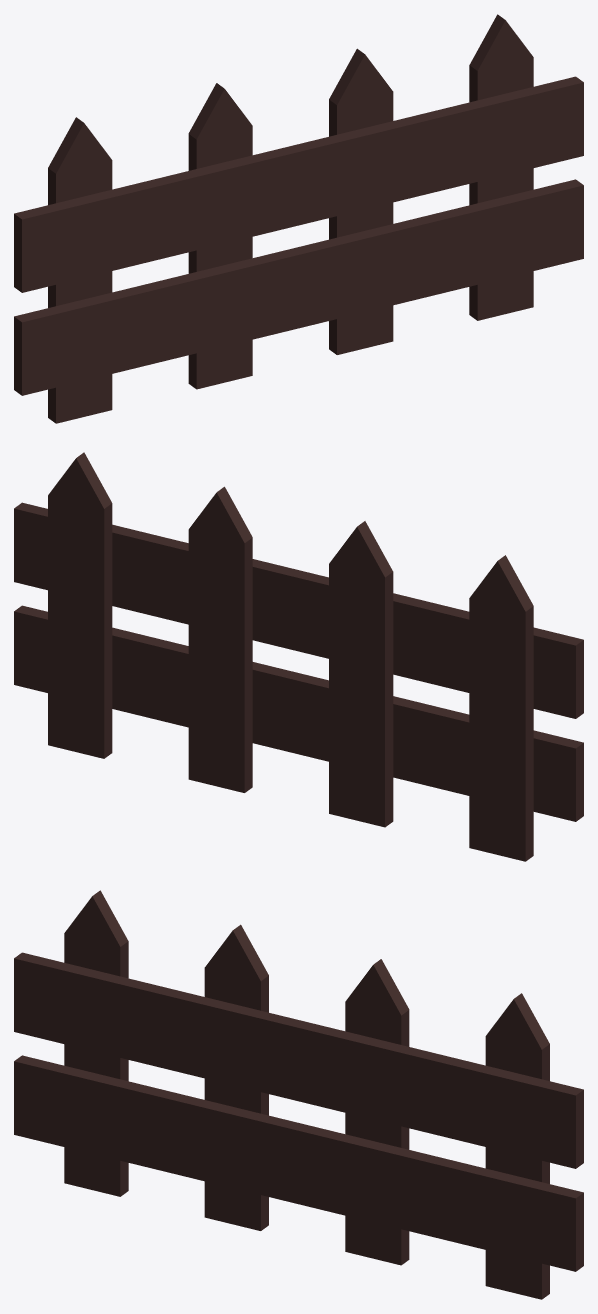
The model's file is fence.fbx.
3 renders of one model, top to bottom at view 1: azimuth 30°, elevation 25°; view 2: azimuth 150°, elevation 25°; view 3: azimuth 330°, elevation 25°, orthographic.
Visible parts, largest first — view 1: Fence; view 2: Fence; view 3: Fence.
Part boxes in pixels (x1,y1,x2,y2): Fence: [14, 14, 583, 423]; Fence: [14, 452, 583, 861]; Fence: [14, 890, 583, 1299].
Bounding box in the file's own units: 400 × 200 × 20.
